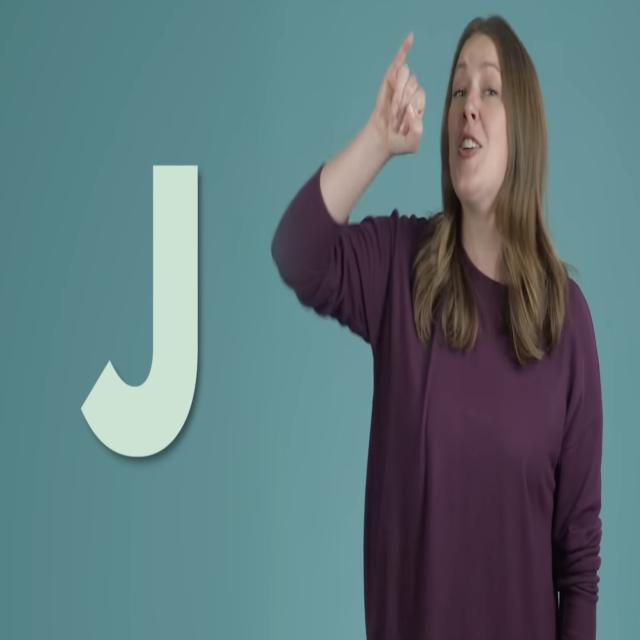J: (344, 13, 432, 188)
